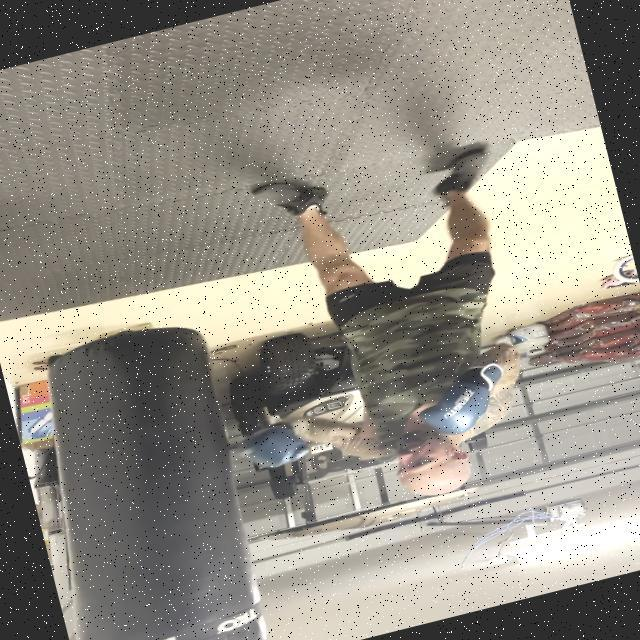cross: (233, 324, 563, 545)
